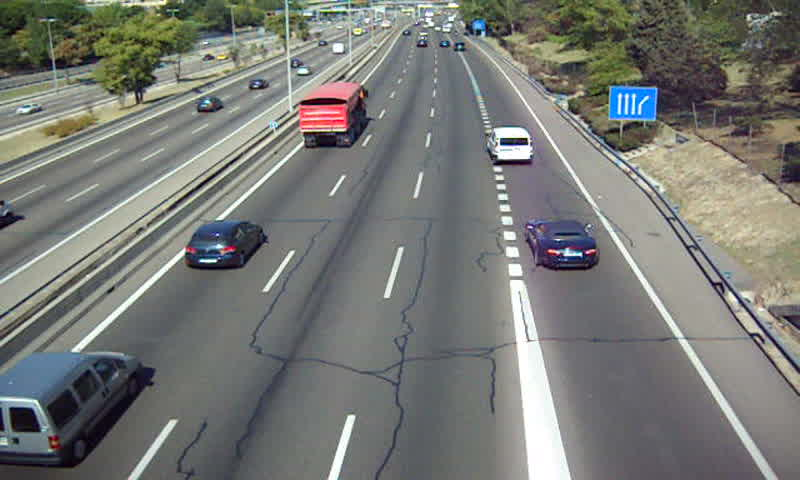car: (528, 219, 599, 270), (186, 222, 262, 269)
truck: (300, 82, 365, 147)
van: (1, 351, 139, 467), (487, 127, 532, 165)
